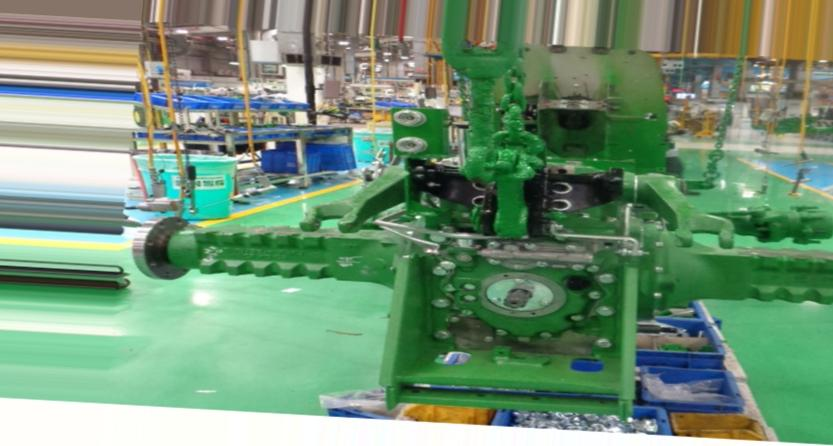engine: (125, 41, 832, 412)
